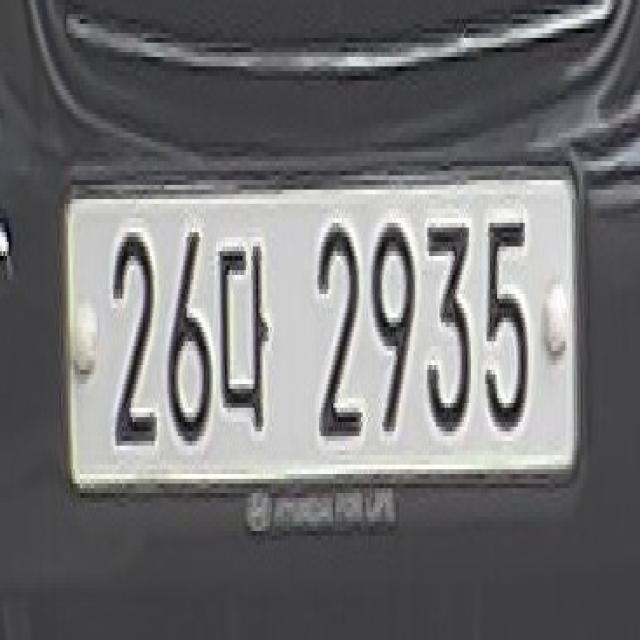plat: (60, 161, 583, 492)
